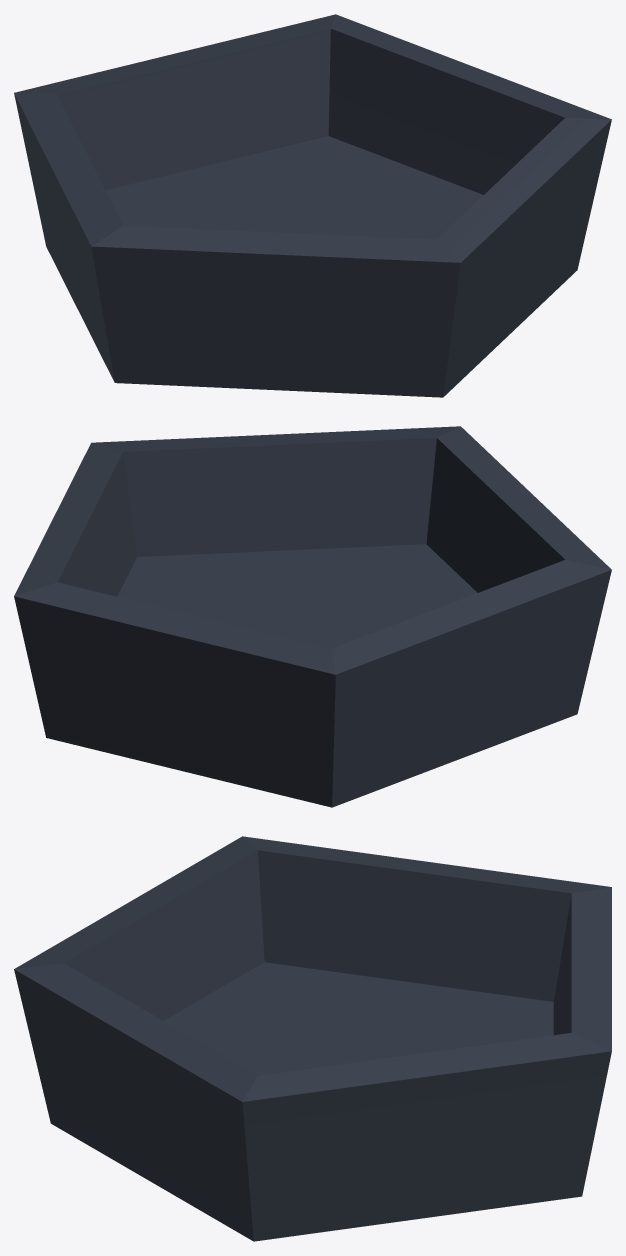
File: Ashtray_1_B.glb
3 renders of one model, top to bottom at view 1: azimuth 30°, elevation 25°; view 2: azimuth 150°, elevation 25°; view 3: azimuth 270°, elevation 25°, orthographic. The views are drawn at different scales.
Visible parts, largest first — view 1: Ashtray_1_B; view 2: Ashtray_1_B; view 3: Ashtray_1_B.
Part boxes in pixels (left/top/right/bottom): Ashtray_1_B: left=14, top=14, right=611, bottom=397; Ashtray_1_B: left=14, top=426, right=611, bottom=807; Ashtray_1_B: left=14, top=836, right=611, bottom=1241.
Size of the model in its own units: 0.1872 by 0.0527 by 0.178.
1 material, 1 textured.
